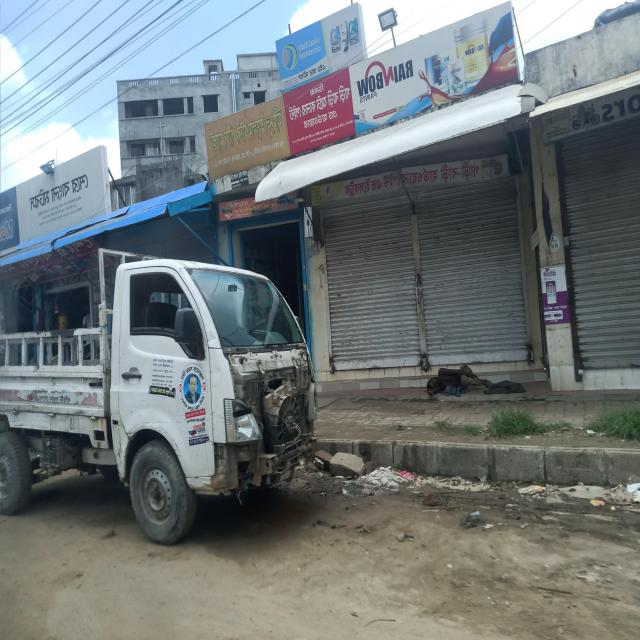truck: (0, 248, 318, 545)
